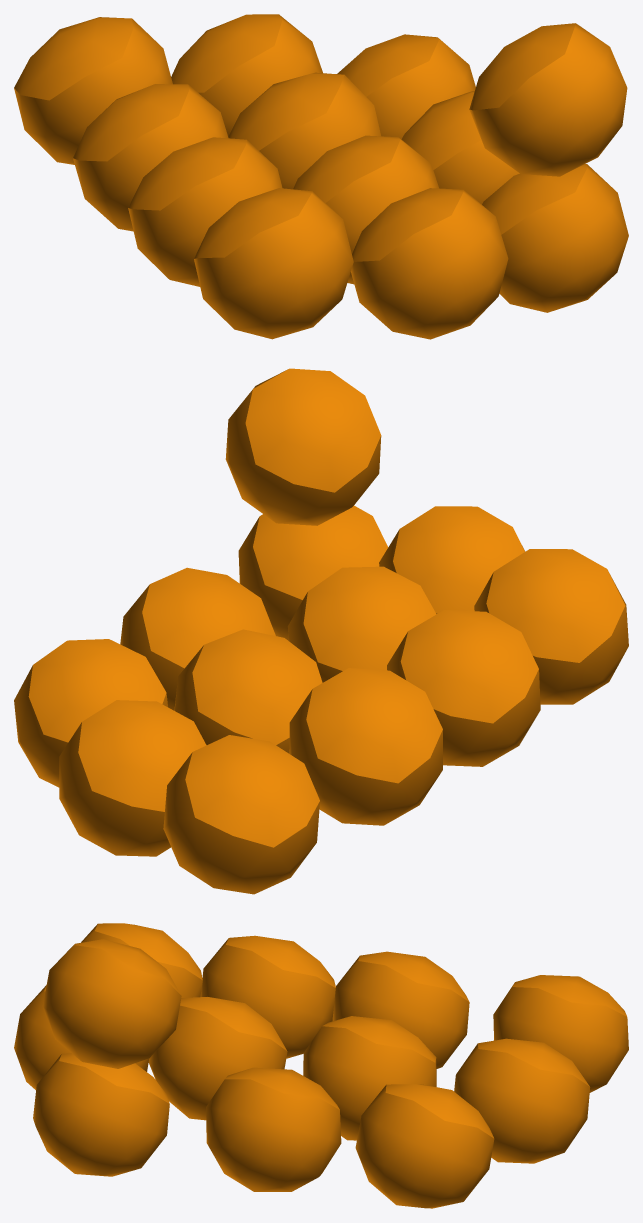
The model's file is SM_Orange_A.fbx.
3 views of the same model, one above another, from view 1: azimuth 30°, elevation 25°; view 2: azimuth 150°, elevation 25°; view 3: azimuth 270°, elevation 25° (orthographic). The views are drawn at different scales.
Visible parts, largest first — view 1: Icosphere.004; view 2: Icosphere.004; view 3: Icosphere.004.
Boxes of the visible parts, <box> form: Icosphere.004: <box>14,14,628,339</box>; Icosphere.004: <box>14,368,628,894</box>; Icosphere.004: <box>14,923,628,1208</box>.
Bounding box in the file's own units: 37.01 × 23.65 × 52.62.
